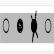correct: (16, 14, 24, 40)
not correct: (29, 10, 39, 44)
